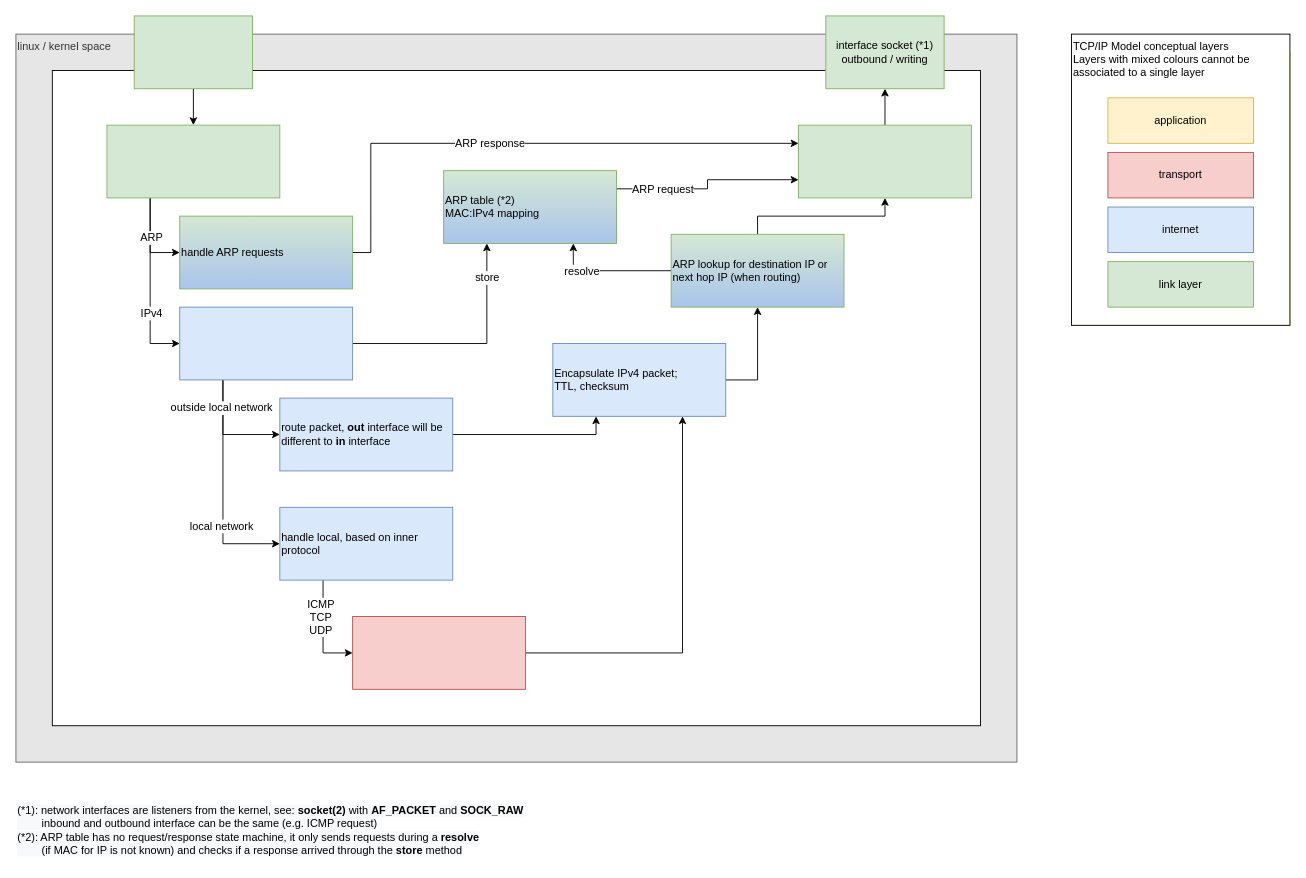
Image size: 1306x878. Some labels were removed from this diagram. The shapes that lost their labels are listed below. From the top down, each one's box as (x1, y1, x2, y2) in pixels, then its label:
(133, 15, 253, 89): interface socket (*1) inbound / reading
(106, 124, 280, 198): read frame from interface handle based on EtherType
(798, 124, 971, 198): write frame to interface
(179, 306, 353, 380): handle based on destination IP
(51, 70, 981, 726): edurouter
(352, 616, 526, 689): handle local
